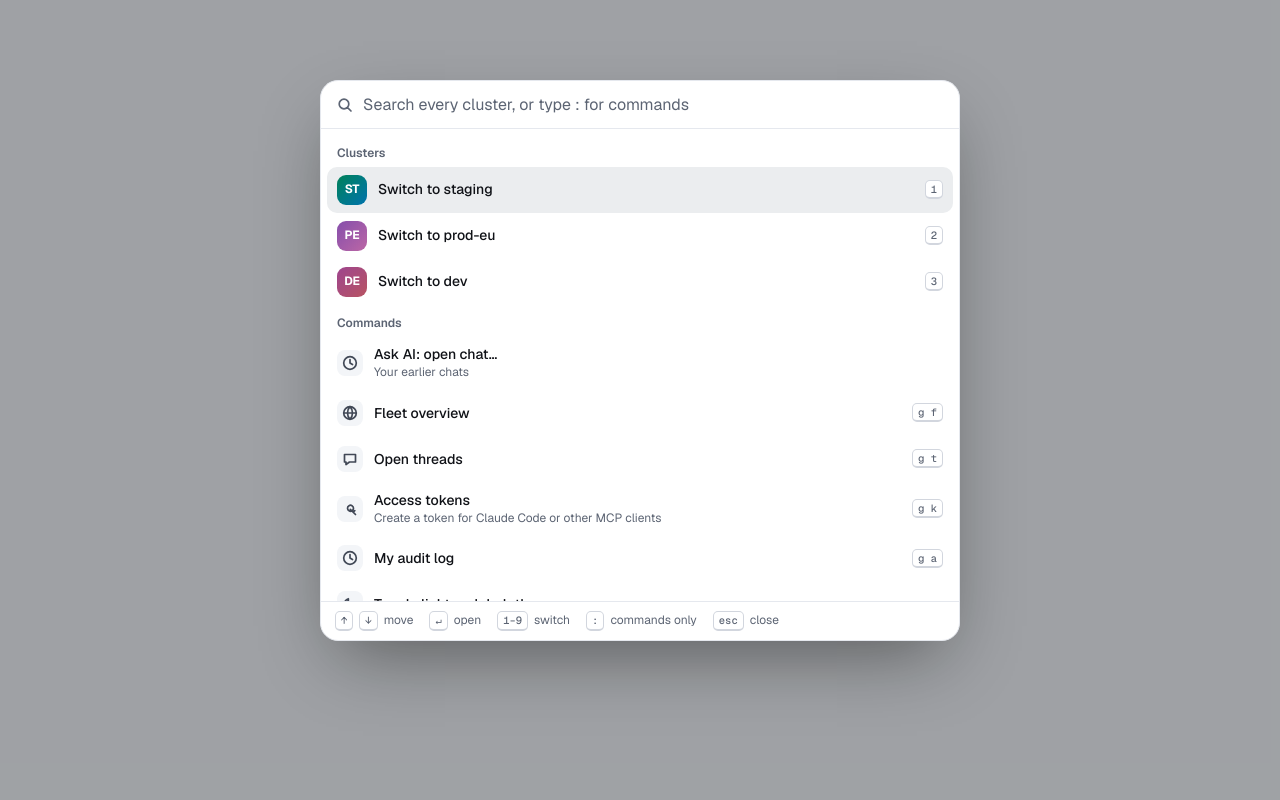
Test: CommandPalette fleet search › debounces typing into one request for the final query
The image size is (1280, 800).
Type "paym" into the dropdown labelled "Search".
click(653, 105); type("paym")  # box [363,93,943,116]
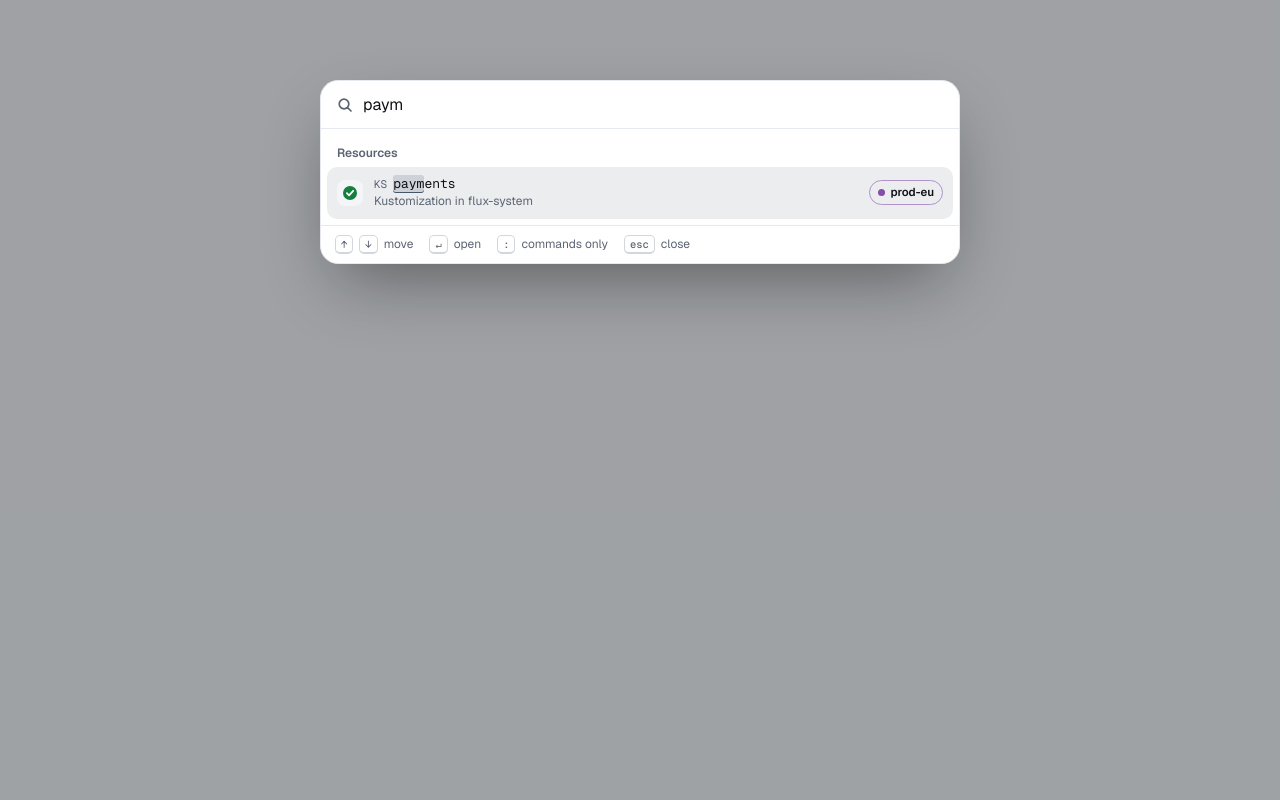
Result: the option shows "payments" at [327,167,953,219]
